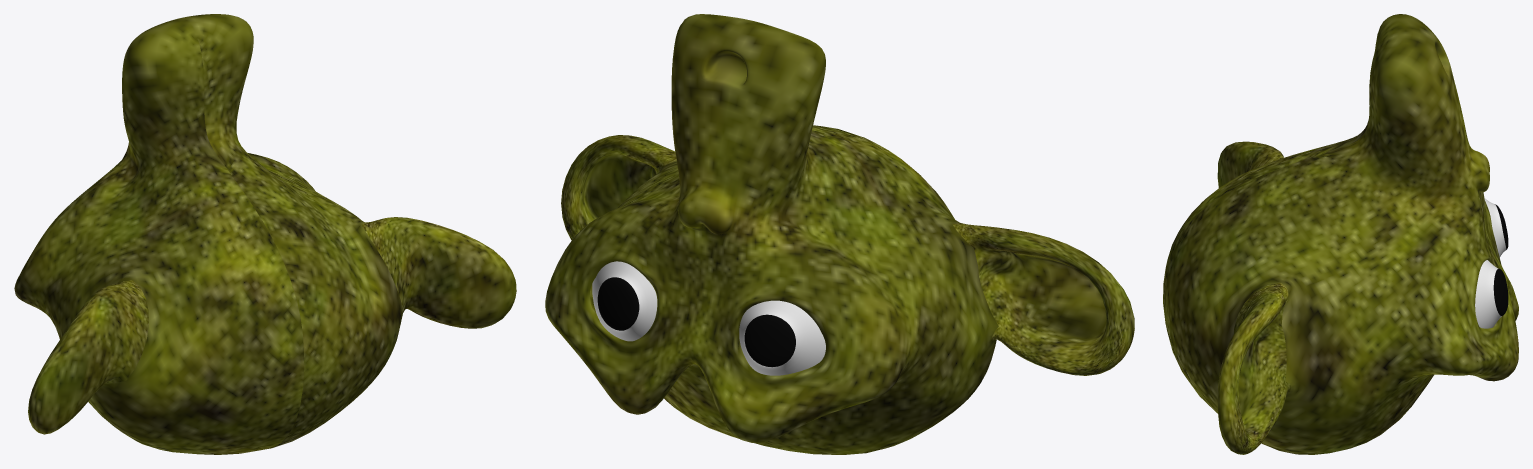
The model's file is Suzanne.glb.
The picture shows the model from 3 angles, left to right: view 1: azimuth 30°, elevation 25°; view 2: azimuth 150°, elevation 25°; view 3: azimuth 270°, elevation 25°; orthographic projection. The views are drawn at different scales.
Parts seen in each view (by area): view 1: Suzanne; view 2: Suzanne; view 3: Suzanne.
Part boxes in pixels (<box>): Suzanne: <box>14,14,516,454</box>; Suzanne: <box>545,14,1134,454</box>; Suzanne: <box>1163,14,1518,454</box>.
Bounding box in the file's own units: 2.66 × 2.01 × 1.63.
3 materials, 1 textured.
